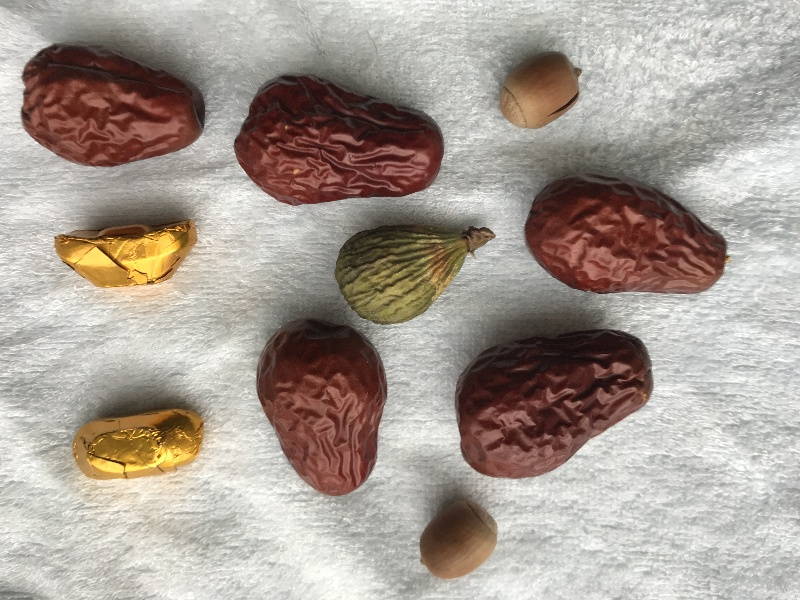date: (453, 328, 656, 480), (234, 73, 447, 209), (523, 172, 729, 300), (20, 41, 209, 166), (257, 318, 388, 497)
fig: (335, 224, 494, 324)
hazelnut: (493, 51, 589, 132), (413, 499, 502, 582)
